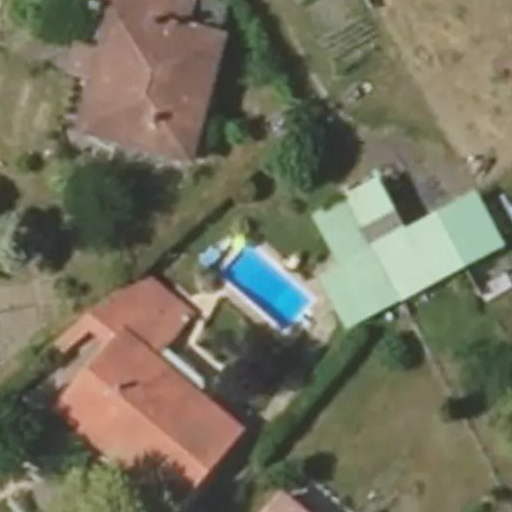pool: (207, 225, 301, 258)
